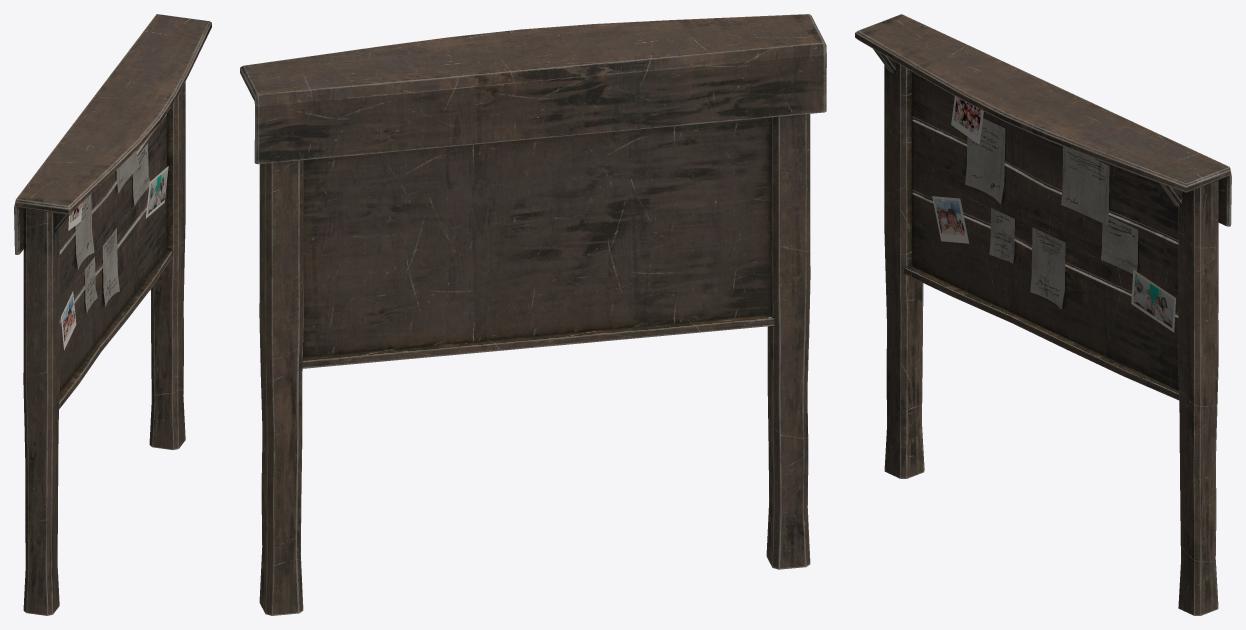
Rendered from board.glb.
3 renders of one model, left to right at view 1: azimuth 30°, elevation 25°; view 2: azimuth 150°, elevation 25°; view 3: azimuth 270°, elevation 25°, orthographic. The views are drawn at different scales.
Visible parts, largest first — view 1: Cube__0.001; view 2: Cube__0.001; view 3: Cube__0.001.
Boxes of the visible parts, box(x1,y1,x2,y2) form: Cube__0.001: box(14, 14, 211, 615); Cube__0.001: box(240, 14, 826, 615); Cube__0.001: box(855, 14, 1231, 615).
Bounding box in the file's own units: 2.27 × 2.73 × 2.11.
5 materials, 4 textured.
